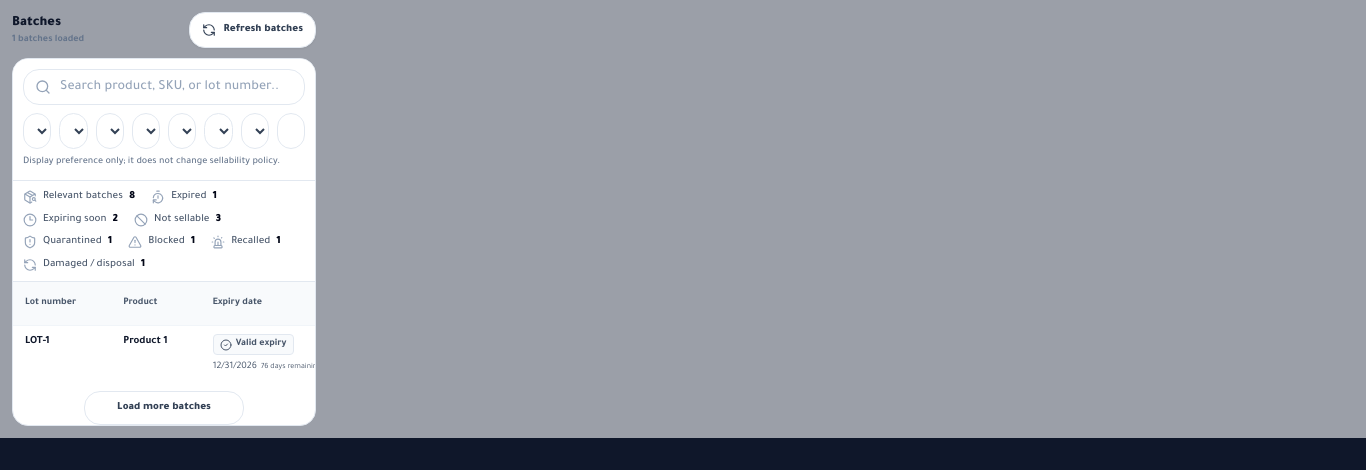
Test case: CP2 Batches Dashboard batch-first contract › refresh resets the cursor and reloads first-page data and summary
The width and height of the screenshot is (1366, 470).
Step 1. Click the button "Load more batches" → (164, 408), box x1=84 y1=390 x2=244 y2=425
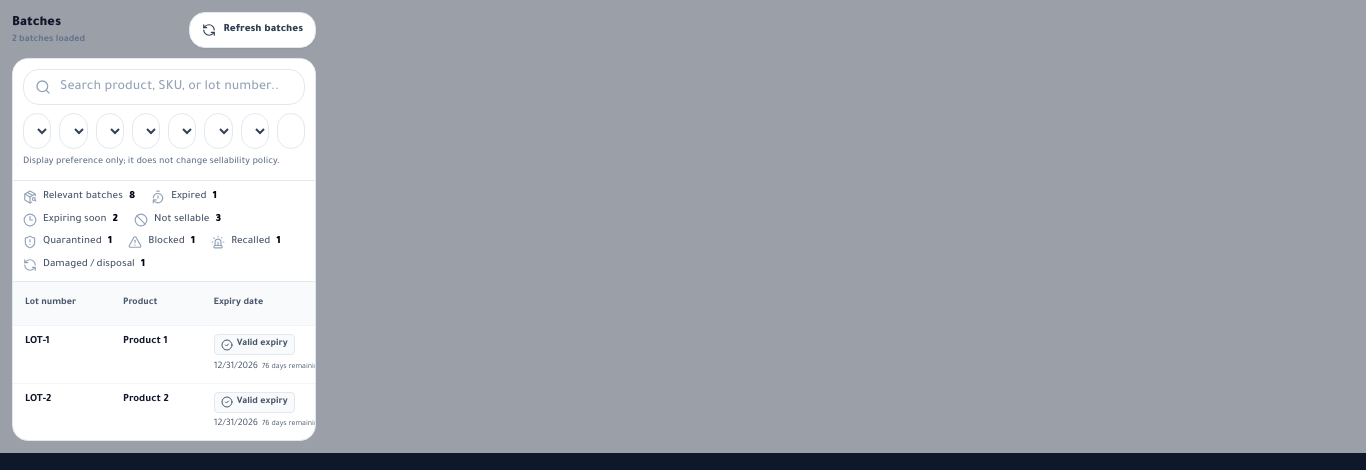
Step 2. Click the button "Refresh batches" → (252, 30), box x1=188 y1=12 x2=316 y2=48
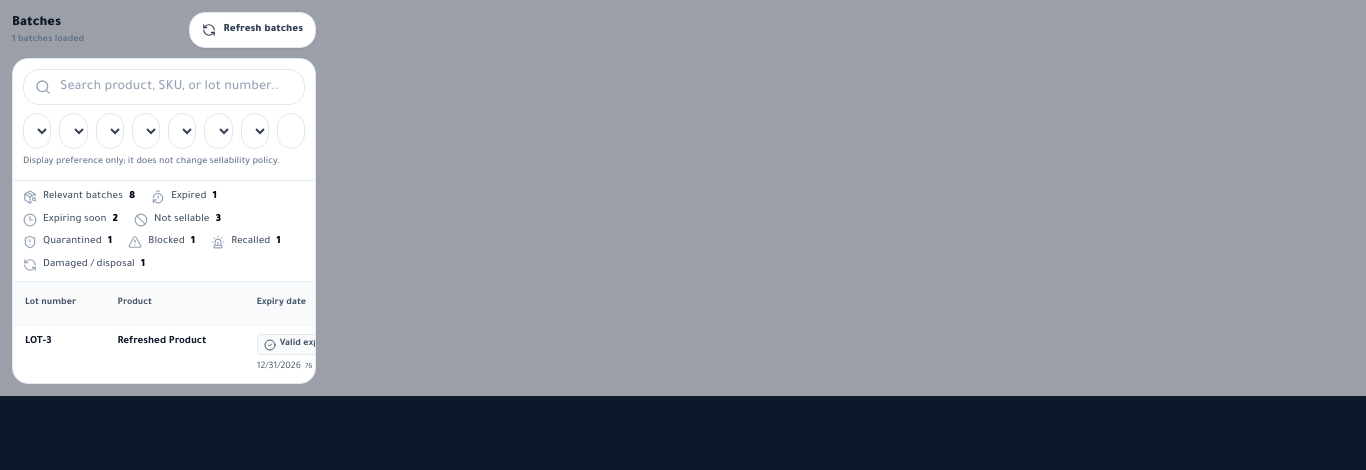
Now the text "Product 1" is gone
Now the text "Product 2" is gone
